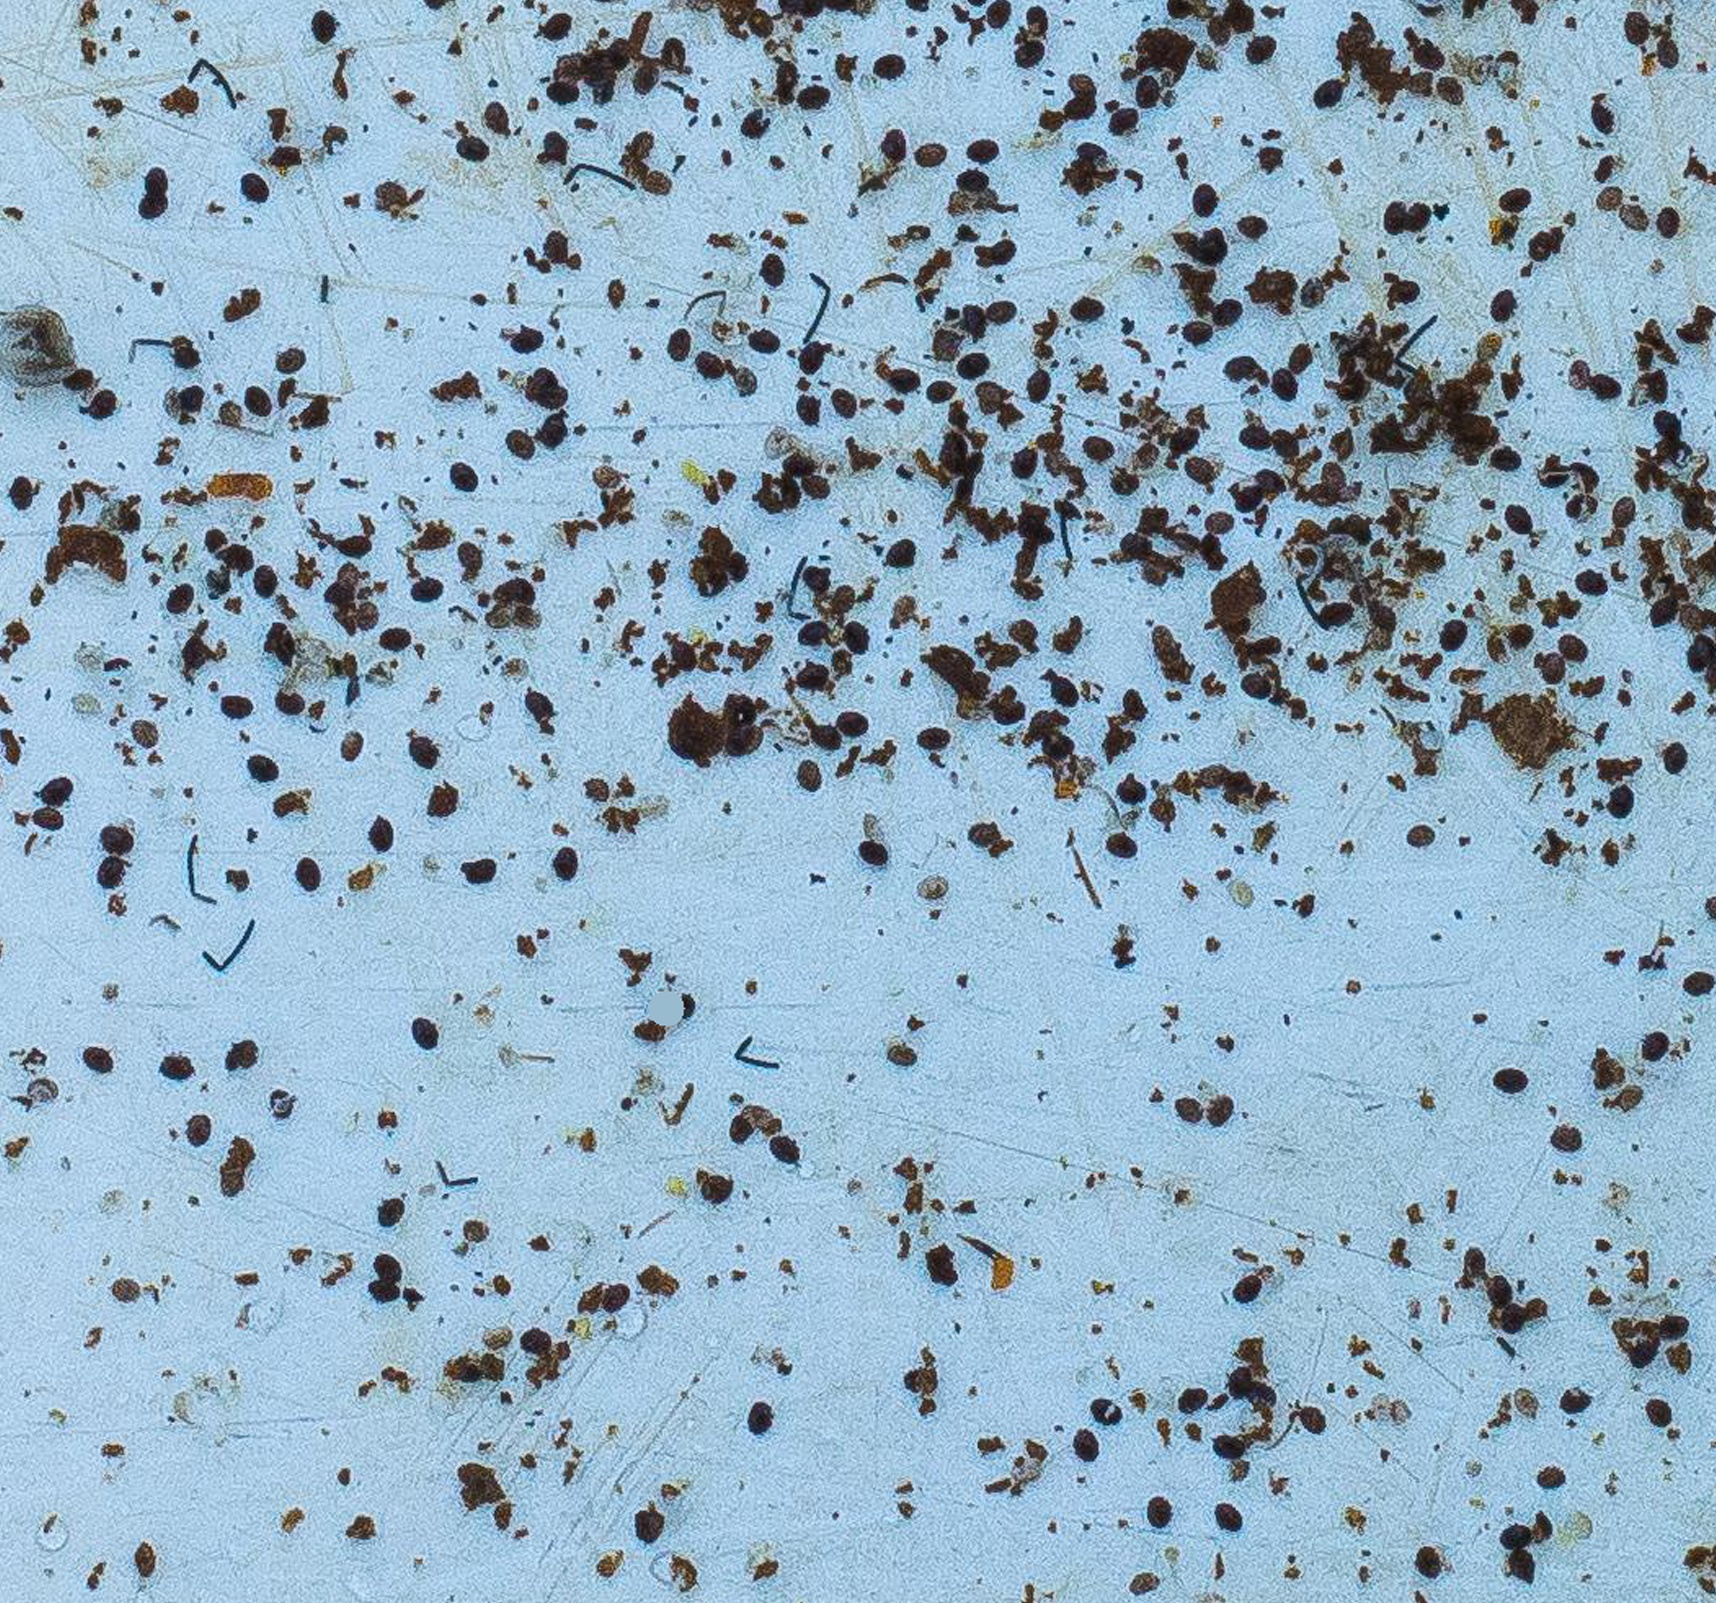Varroa: (1302, 69, 1348, 116), (1128, 66, 1175, 113), (541, 63, 588, 110), (530, 116, 577, 163), (136, 160, 182, 206), (53, 353, 99, 399), (502, 315, 548, 362), (976, 229, 1023, 276), (794, 327, 841, 374), (1012, 359, 1059, 405), (1397, 193, 1443, 240), (234, 746, 280, 792), (517, 681, 563, 728), (658, 634, 705, 681), (791, 609, 838, 655), (820, 572, 866, 619), (1540, 1115, 1586, 1162), (1490, 1293, 1537, 1339), (1479, 1267, 1526, 1314), (1204, 1496, 1250, 1543), (1498, 1547, 1544, 1594), (1052, 84, 1098, 130), (866, 38, 911, 84), (618, 57, 664, 102), (613, 116, 658, 163), (475, 84, 520, 131), (447, 124, 493, 170), (300, 2, 345, 48), (227, 170, 274, 215), (265, 330, 310, 377), (497, 417, 542, 464), (533, 218, 579, 265), (734, 319, 780, 365), (866, 124, 911, 170), (907, 131, 954, 176), (914, 369, 961, 414), (883, 353, 928, 399), (824, 374, 869, 420), (1183, 176, 1229, 221), (1369, 193, 1415, 240), (1202, 291, 1247, 337), (1258, 363, 1305, 408), (1159, 417, 1204, 464), (1266, 423, 1312, 469), (1642, 199, 1687, 246), (1478, 435, 1525, 481), (154, 576, 200, 621), (209, 682, 256, 728), (264, 681, 309, 728), (328, 716, 375, 761), (92, 814, 139, 859), (122, 707, 167, 753), (440, 456, 487, 502), (331, 524, 378, 569), (371, 616, 417, 661), (404, 572, 450, 618), (359, 808, 404, 854), (788, 755, 835, 800), (911, 714, 958, 759), (832, 701, 878, 746), (835, 616, 881, 661), (853, 830, 899, 875), (958, 808, 1003, 854), (875, 533, 922, 579), (987, 689, 1034, 734), (1043, 667, 1088, 714), (1427, 609, 1472, 655), (1594, 777, 1641, 823), (1498, 499, 1544, 544), (1598, 485, 1645, 530), (1642, 588, 1687, 634), (20, 1067, 66, 1112), (545, 844, 591, 890), (401, 1009, 447, 1055), (1165, 1086, 1211, 1131), (1620, 1327, 1666, 1372), (1526, 1446, 1571, 1493), (1222, 1266, 1269, 1311), (690, 1162, 737, 1207), (592, 1272, 637, 1318), (365, 1243, 411, 1288), (365, 1186, 411, 1231), (102, 1264, 148, 1311), (1134, 1485, 1180, 1532), (1064, 288, 1109, 333), (1642, 29, 1687, 74), (1580, 90, 1626, 136), (1427, 69, 1472, 114), (1098, 90, 1143, 136), (1006, 32, 1052, 77), (785, 72, 830, 118), (128, 182, 173, 227), (237, 380, 282, 425), (81, 381, 127, 426), (652, 322, 698, 368), (744, 246, 789, 291), (628, 164, 673, 209), (958, 130, 1003, 175), (979, 282, 1024, 327), (945, 340, 990, 386), (692, 342, 737, 387), (1002, 438, 1047, 484), (1076, 422, 1121, 467), (1232, 206, 1278, 252), (1385, 265, 1430, 310), (1174, 307, 1219, 353), (1279, 328, 1324, 374), (1229, 411, 1275, 456), (1482, 282, 1528, 327), (1487, 172, 1532, 217), (1586, 176, 1632, 221), (1611, 194, 1656, 240), (1585, 365, 1630, 410), (1553, 350, 1598, 395), (1644, 399, 1689, 444), (240, 559, 285, 604), (30, 762, 75, 808), (29, 798, 74, 844), (808, 716, 853, 761), (1195, 503, 1240, 548), (1104, 762, 1150, 808), (1113, 682, 1159, 728), (1234, 661, 1279, 707), (1529, 643, 1574, 689), (1549, 621, 1594, 666), (1568, 563, 1614, 609), (1651, 738, 1696, 783), (78, 1040, 124, 1085), (259, 1083, 304, 1128), (286, 854, 331, 899), (460, 850, 505, 895), (765, 1124, 811, 1169), (878, 1030, 924, 1076), (908, 869, 954, 914), (1202, 1088, 1247, 1133), (1489, 1061, 1534, 1106), (1627, 1021, 1672, 1067), (1651, 1305, 1696, 1350), (1547, 1377, 1592, 1422), (1449, 1243, 1495, 1288), (1080, 1386, 1125, 1431), (1214, 1354, 1260, 1400), (1202, 1422, 1247, 1467), (740, 1394, 785, 1439), (360, 1279, 405, 1324), (511, 1315, 556, 1360), (1406, 1537, 1451, 1582), (1492, 1513, 1537, 1558), (1409, 30, 1454, 75), (788, 395, 835, 438), (401, 725, 447, 768), (878, 591, 925, 634), (154, 1040, 197, 1086), (719, 1109, 762, 1156), (1635, 1391, 1681, 1434), (1168, 1372, 1211, 1419), (1235, 23, 1281, 66), (649, 26, 695, 69), (1101, 826, 1147, 869), (1311, 591, 1356, 634), (1403, 808, 1446, 853), (172, 1104, 215, 1150), (1294, 1391, 1339, 1434), (1065, 1427, 1110, 1470)
